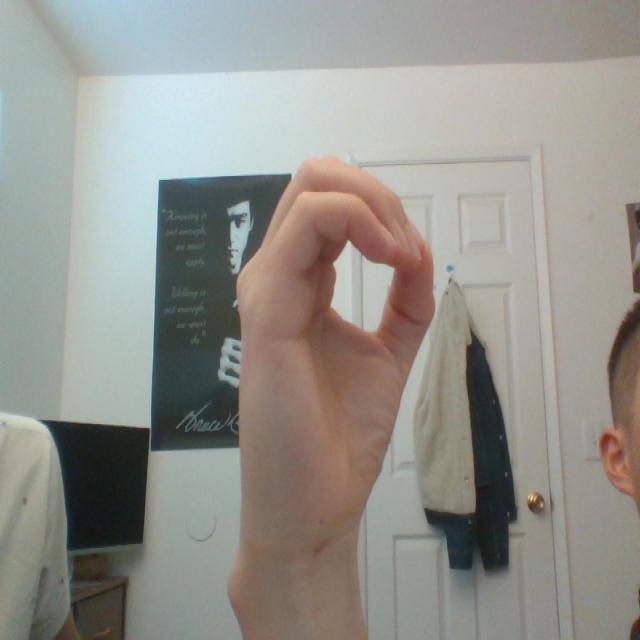O: (212, 127, 461, 560)
